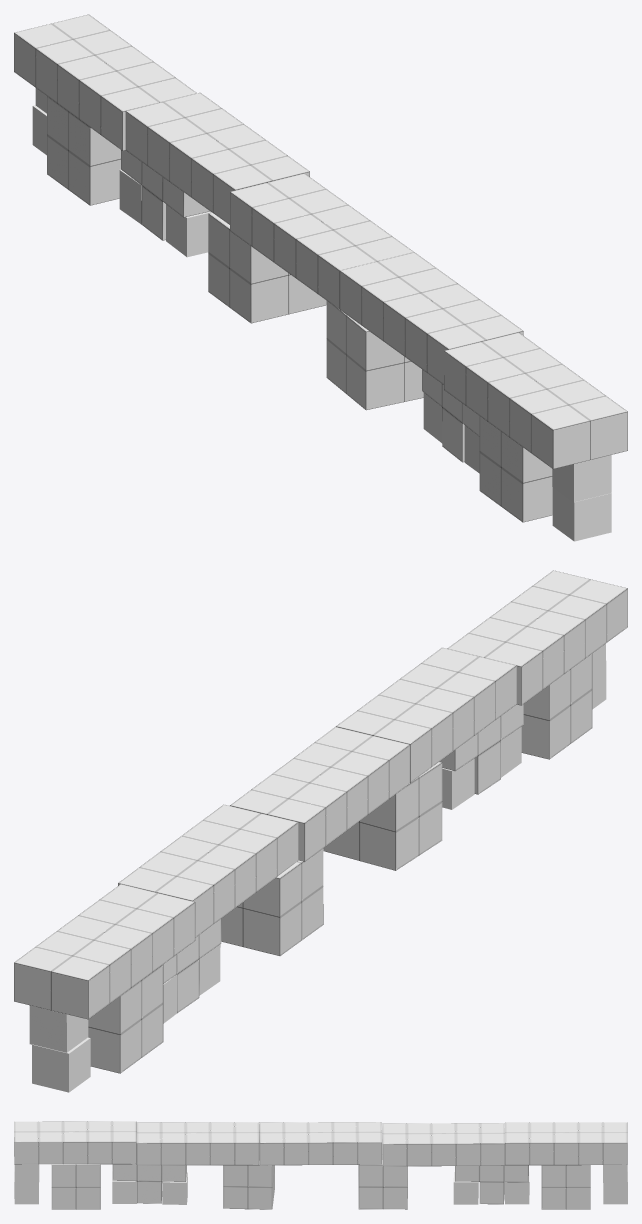
3 views of the same model, one above another, from view 1: azimuth 30°, elevation 25°; view 2: azimuth 150°, elevation 25°; view 3: azimuth 270°, elevation 25° (orthographic). The views are drawn at different scales.
Parts seen in each view (by area): view 1: GridPlank_0:3, GridPlank_0:1, GridPlank_0, GridPlank_0:2, GridPlank_0:4, GridCube_0, GridCube_0:1, Plane/BasicEnvironment/StartCube-2, Plane/BasicEnvironment/StartCube-1, GridTShape_0:1, GridSmallCube_0:5, GridTShape_0 (+4 smaller); view 2: GridPlank_0:1, GridPlank_0, GridPlank_0:3, GridPlank_0:4, GridPlank_0:2, GridCube_0:1, GridCube_0, Plane/BasicEnvironment/StartCube-2, Plane/BasicEnvironment/StartCube-1, GridTShape_0, GridSmallCube_0:4, GridTShape_0:1 (+4 smaller); view 3: GridPlank_0:4, GridPlank_0:3, GridPlank_0:1, GridPlank_0:2, GridPlank_0, GridCube_0:1, Plane/BasicEnvironment/StartCube-1, GridCube_0, Plane/BasicEnvironment/StartCube-2, GridTShape_0, GridTShape_0:1, GridSmallCube_0:3 (+7 smaller).
Boxes of the visible parts, x1,y1,x2,y2 form: GridPlank_0:3: (444, 332, 627, 469); GridPlank_0:1: (14, 14, 196, 150); GridPlank_0: (230, 173, 413, 308); GridPlank_0:2: (125, 92, 309, 224); GridPlank_0:4: (339, 252, 523, 384); GridCube_0: (208, 212, 326, 323); GridCube_0:1: (326, 301, 423, 410); Plane/BasicEnvironment/StartCube-2: (47, 96, 120, 205); Plane/BasicEnvironment/StartCube-1: (479, 416, 552, 522); GridTShape_0:1: (121, 150, 210, 240); GridSmallCube_0:5: (552, 487, 611, 541); GridTShape_0: (422, 369, 479, 462); GridPlank_0:1: (14, 884, 195, 1019); GridPlank_0: (230, 726, 410, 861); GridPlank_0:3: (447, 570, 627, 705); GridPlank_0:4: (336, 647, 516, 782); GridPlank_0:2: (118, 804, 298, 937); GridCube_0:1: (323, 762, 442, 870); GridCube_0: (221, 848, 323, 955); Plane/BasicEnvironment/StartCube-2: (88, 965, 163, 1073); Plane/BasicEnvironment/StartCube-1: (521, 654, 592, 759); GridTShape_0: (439, 704, 523, 794); GridSmallCube_0:4: (32, 1037, 90, 1092); GridTShape_0:1: (163, 919, 221, 1013); GridPlank_0:4: (136, 1122, 259, 1165); GridPlank_0:3: (14, 1121, 136, 1164); GridPlank_0:1: (505, 1122, 627, 1165); GridPlank_0:2: (382, 1123, 504, 1166); GridPlank_0: (259, 1122, 381, 1165); GridCube_0:1: (223, 1161, 274, 1209); Plane/BasicEnvironment/StartCube-1: (51, 1164, 100, 1209); GridCube_0: (358, 1144, 407, 1209); Plane/BasicEnvironment/StartCube-2: (541, 1165, 590, 1209); GridTShape_0: (112, 1164, 186, 1203); GridTShape_0:1: (455, 1165, 528, 1204); GridSmallCube_0:3: (453, 1172, 478, 1204).
Bounding box in the file's own units: 0.2217 × 0.3007 × 2.51.
